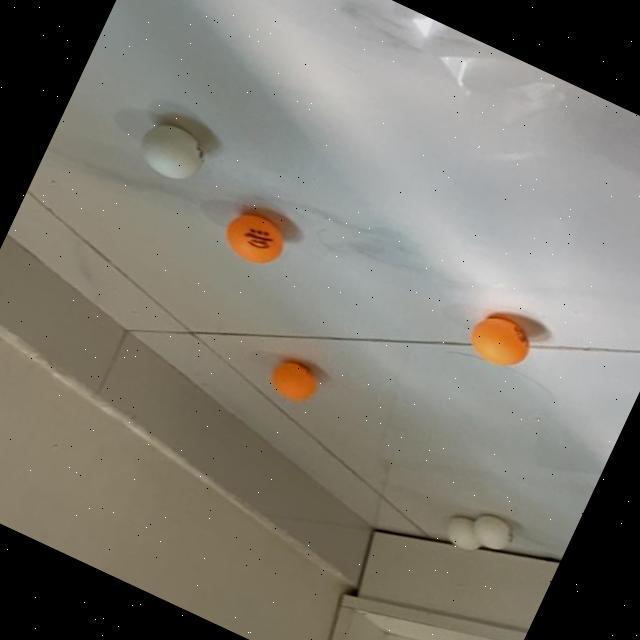ping-pong-ball: (130, 115, 212, 188), (460, 306, 538, 376), (216, 205, 290, 272), (262, 354, 322, 410), (438, 510, 492, 558), (466, 509, 518, 557)
